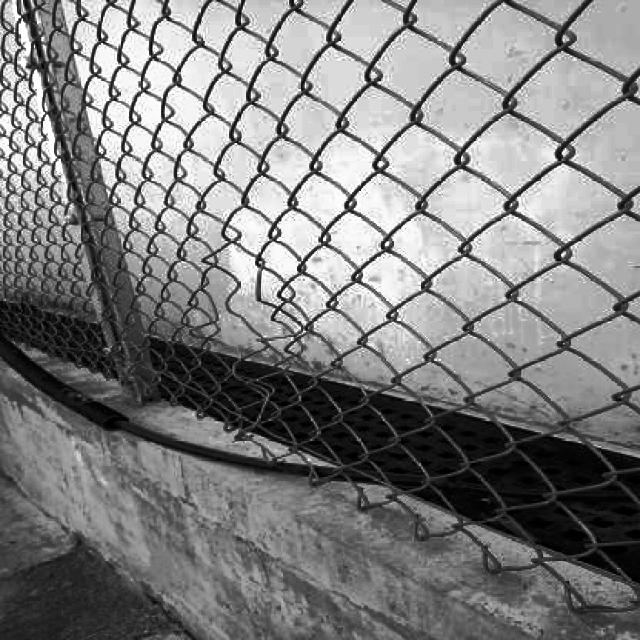anomaly-fence: (136, 110, 310, 456)
